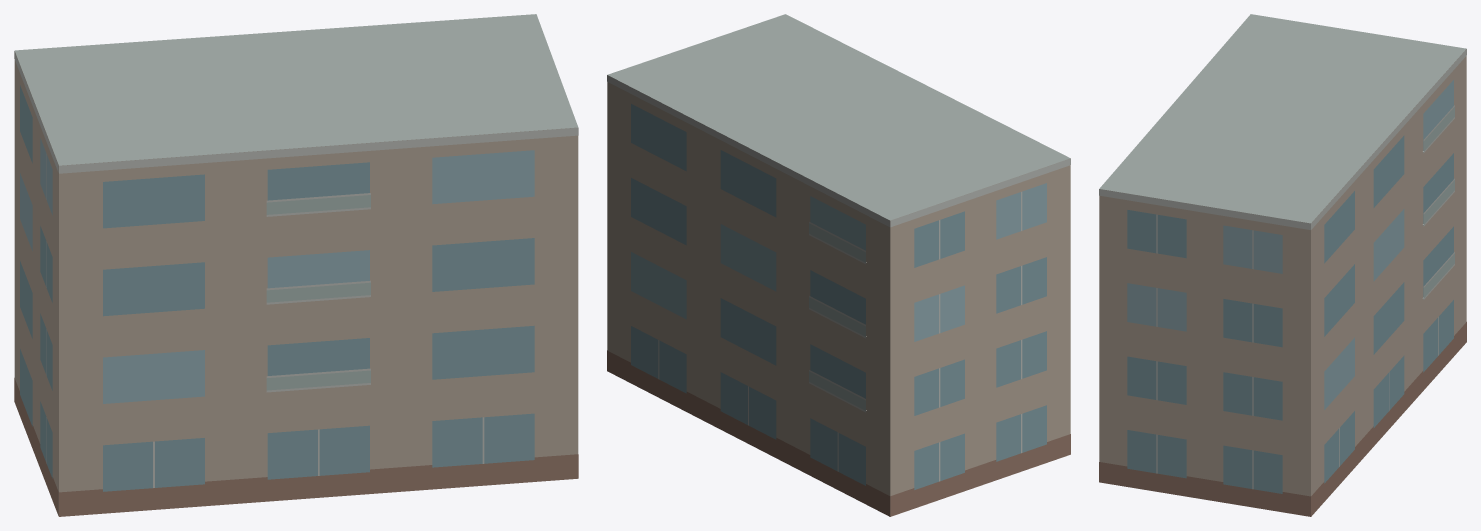
File: survey-upis-32877992.glb
The picture shows the model from 3 angles, left to right: view 1: azimuth 30°, elevation 25°; view 2: azimuth 150°, elevation 25°; view 3: azimuth 270°, elevation 25°; orthographic projection. The views are drawn at different scales.
Visible parts, largest first — view 1: survey-upis-32877992.tmp; view 2: survey-upis-32877992.tmp; view 3: survey-upis-32877992.tmp.
Part boxes in pixels (x1=…): survey-upis-32877992.tmp: x1=14, y1=14, x2=578, y2=516; survey-upis-32877992.tmp: x1=607, y1=14, x2=1070, y2=516; survey-upis-32877992.tmp: x1=1099, y1=14, x2=1466, y2=516.
Bounding box in the file's own units: 16.23 × 10.6 × 12.05.
